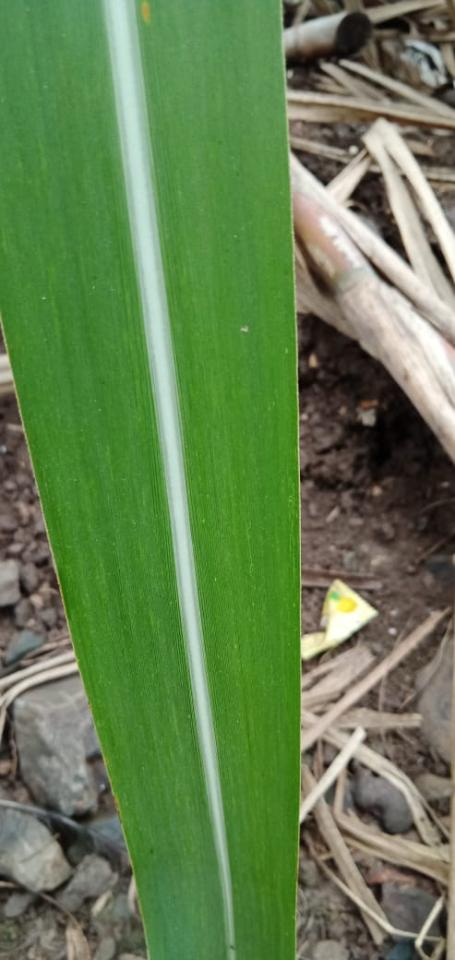Healthy: (0, 0, 301, 959)
